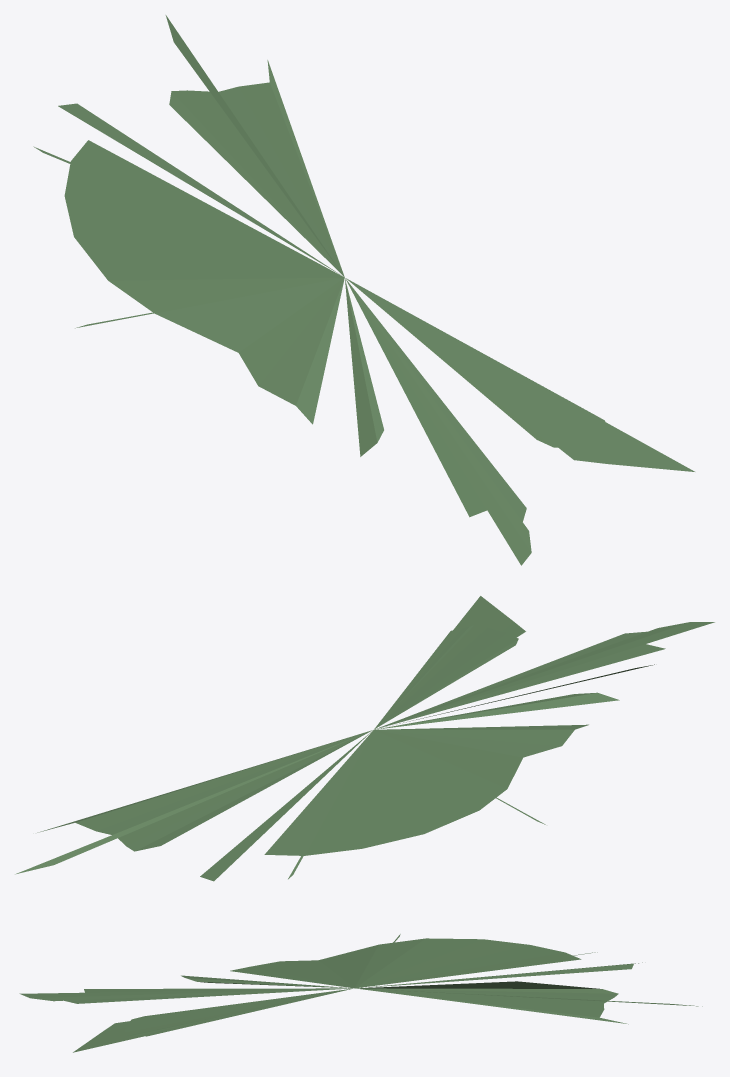
Rendered from c_1673_17824_forest.glb.
The picture shows the model from 3 angles, top to bottom: view 1: azimuth 30°, elevation 25°; view 2: azimuth 150°, elevation 25°; view 3: azimuth 270°, elevation 25°; orthographic projection. The views are drawn at different scales.
Parts seen in each view (by area): view 1: geometry_0; view 2: geometry_0; view 3: geometry_0.
Part boxes in pixels (bbox=[...]): geometry_0: bbox=[33, 15, 694, 565]; geometry_0: bbox=[15, 596, 714, 881]; geometry_0: bbox=[19, 934, 702, 1052].
Size of the model in its own units: 373 by 69.77 by 850.
